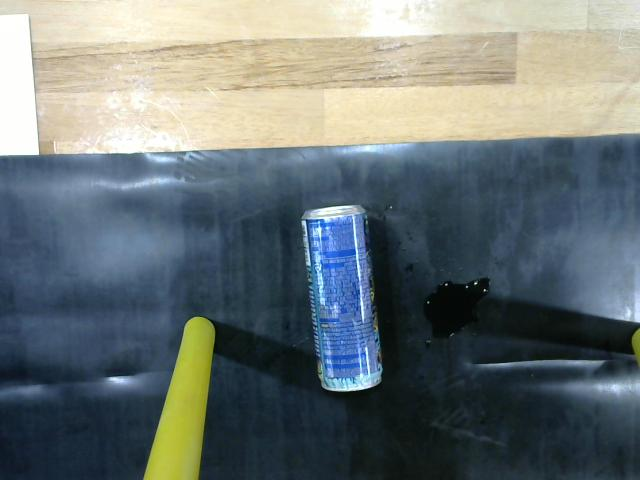can: (297, 195, 388, 397)
